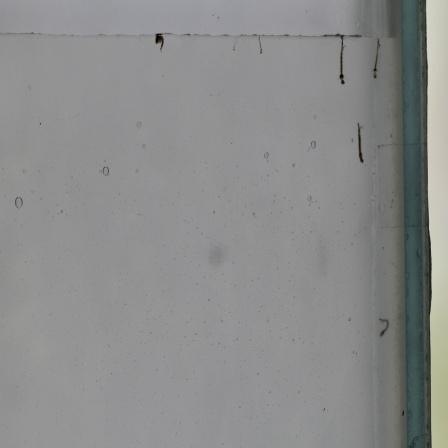Jentik-Nyamuk: (368, 35, 386, 83), (351, 119, 367, 165), (336, 36, 349, 87), (372, 313, 394, 338), (148, 32, 166, 56)
